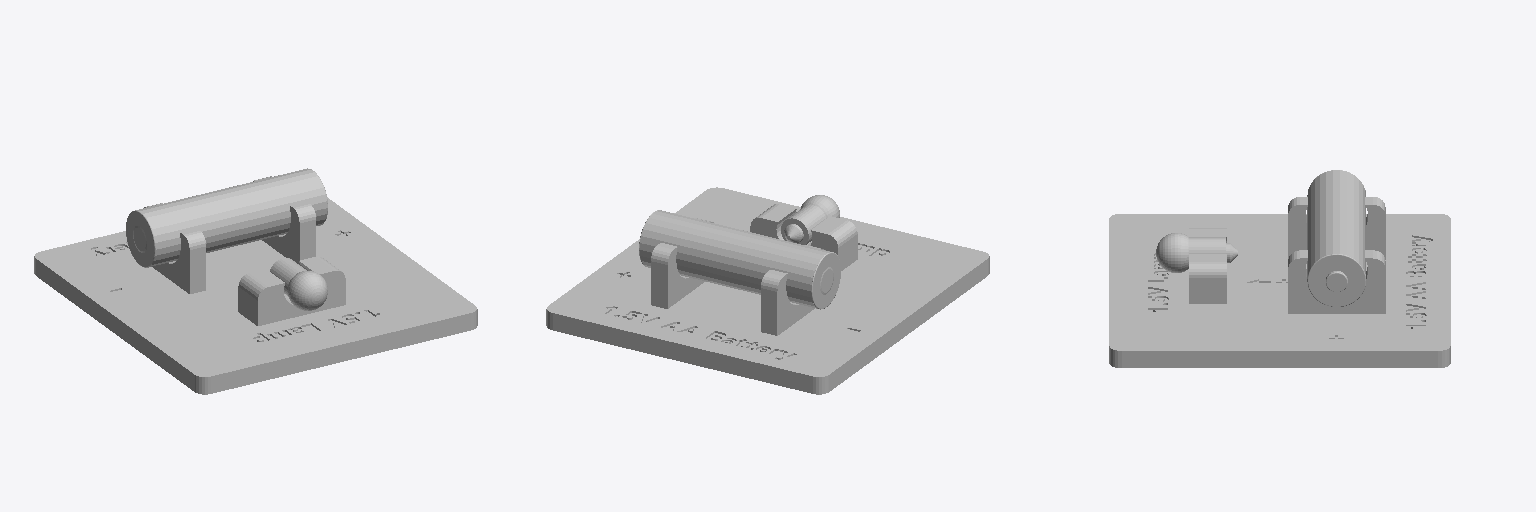
The model's file is 00-lightbulb v30.obj.
3 renders of one model, left to right at view 1: azimuth 30°, elevation 25°; view 2: azimuth 150°, elevation 25°; view 3: azimuth 270°, elevation 25°, orthographic.
Visible parts, largest first — view 1: Body1:2, Body1, Body1:4, Body1:1, Body2, Body3, Body1:3, Body1:5; view 2: Body1:2, Body1, Body2, Body1:1, Body1:3, Body1:5, Body1:4; view 3: Body1:2, Body1, Body2, Body1:1, Body1:3, Body3, Body1:4, Body1:5.
Boxes of the visible parts, <box> form: Body1:2: <box>34,197,477,394</box>; Body1: <box>126,168,327,267</box>; Body1:4: <box>248,264,345,325</box>; Body1:1: <box>144,203,205,293</box>; Body2: <box>253,176,315,264</box>; Body3: <box>288,271,327,310</box>; Body1:3: <box>238,256,330,318</box>; Body1:5: <box>270,258,306,295</box>; Body1:2: <box>546,187,989,394</box>; Body1: <box>639,210,840,309</box>; Body2: <box>651,218,713,308</box>; Body1:1: <box>761,245,823,335</box>; Body1:3: <box>750,211,847,270</box>; Body1:5: <box>781,205,826,244</box>; Body1:4: <box>764,204,857,265</box>; Body1:2: <box>1109,214,1450,367</box>; Body1: <box>1307,170,1365,306</box>; Body2: <box>1288,250,1385,313</box>; Body1:1: <box>1288,197,1385,259</box>; Body1:3: <box>1208,228,1226,303</box>; Body3: <box>1156,233,1188,272</box>; Body1:4: <box>1189,228,1207,303</box>; Body1:5: <box>1189,237,1237,262</box>.
Size of the model in its own units: 8 by 2.38 by 8.4.